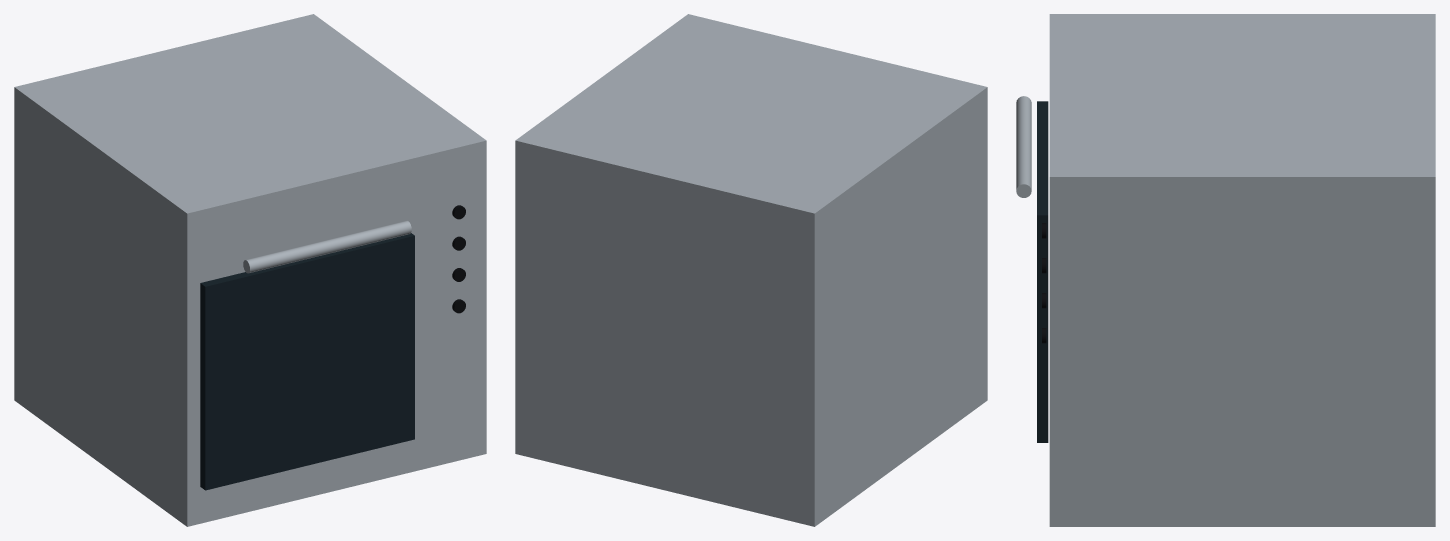
The model's file is Beepitheto_suto.obj.
3 views of the same model, side by side, from view 1: azimuth 30°, elevation 25°; view 2: azimuth 150°, elevation 25°; view 3: azimuth 270°, elevation 25° (orthographic). The views are drawn at different scales.
Bounding box in the file's own units: 0.6 × 0.6 × 0.652.
